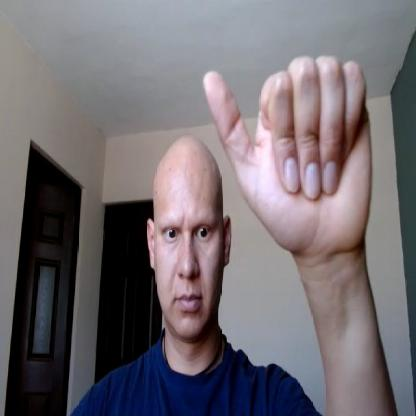A: (203, 58, 374, 252)
